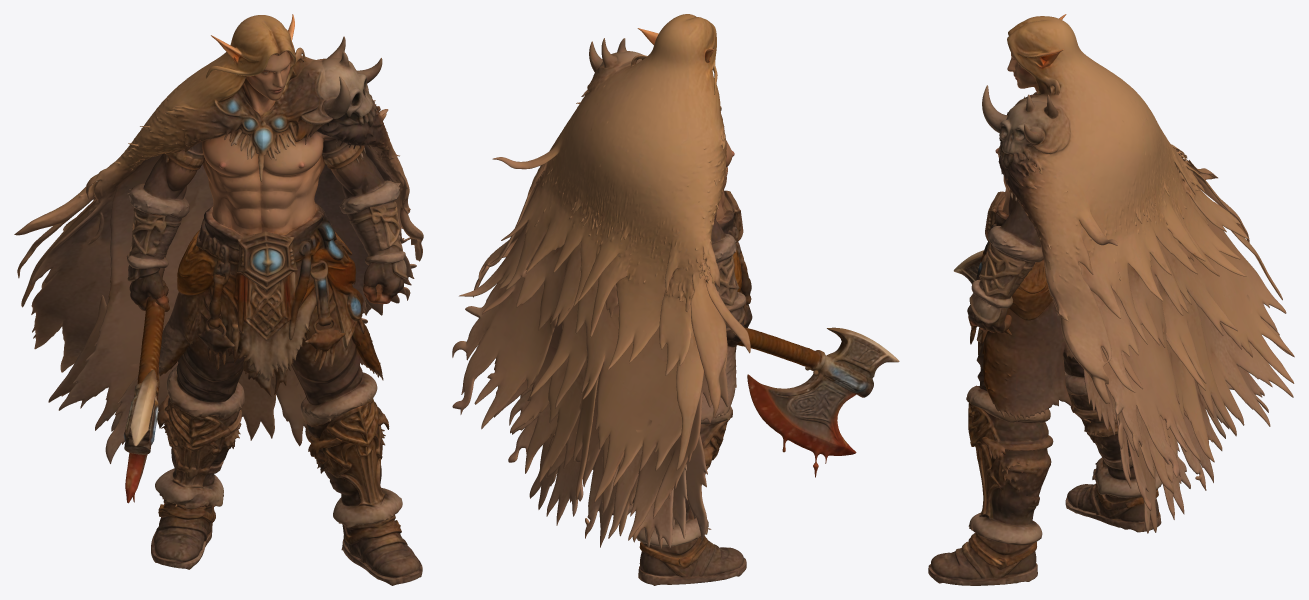
Rendered from elf_barbarian_full_male_01.glb.
3 renders of one model, left to right at view 1: azimuth 30°, elevation 25°; view 2: azimuth 150°, elevation 25°; view 3: azimuth 270°, elevation 25°, orthographic. The views are drawn at different scales.
Visible parts, largest first — view 1: material; view 2: material; view 3: material.
Part boxes in pixels (x1,y1,x2,y2): material: [14, 14, 423, 585]; material: [452, 14, 899, 585]; material: [928, 14, 1294, 585].
Size of the model in its own units: 0.7056 by 0.9886 by 0.6336.
Materials: 1 (1 with a texture image).
